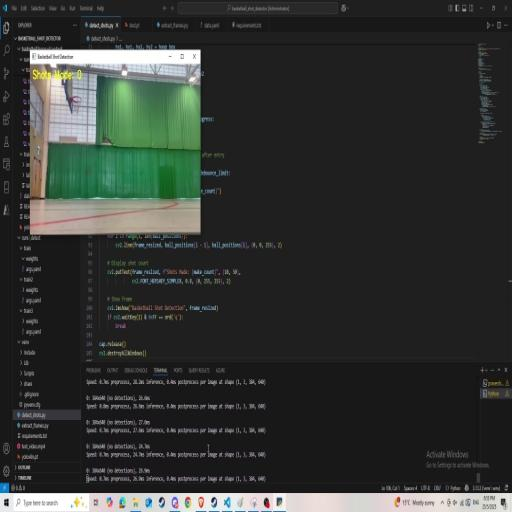hoops: (68, 95, 84, 115)
